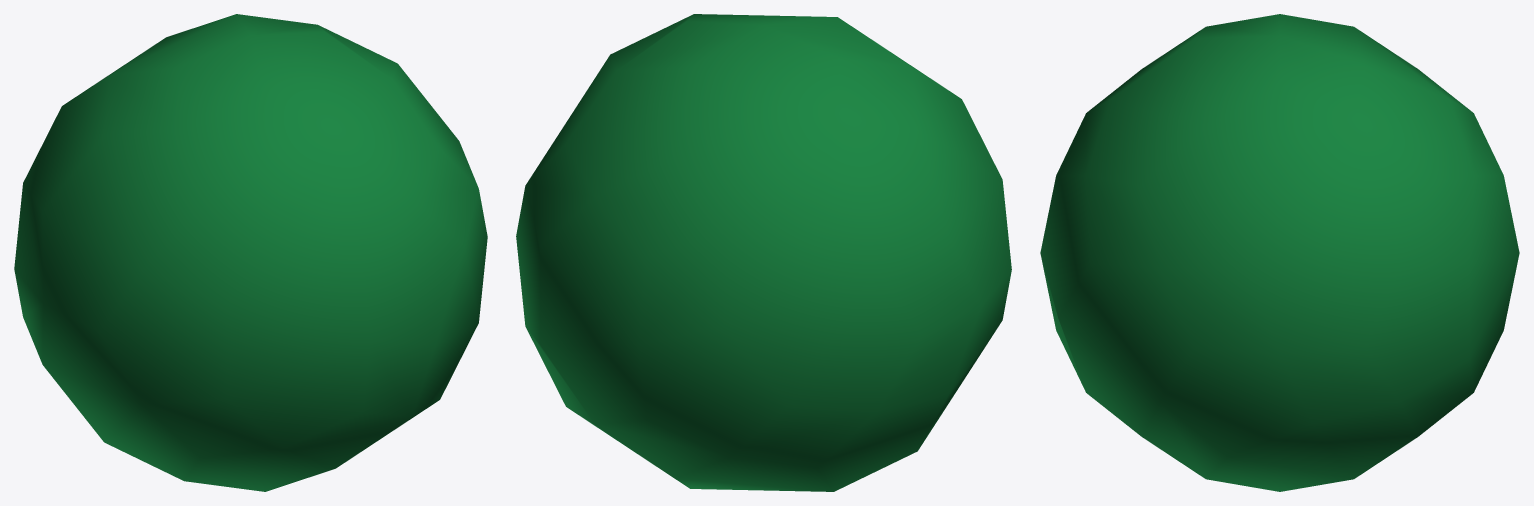
Rendered from env_shrub_01.glb.
The picture shows the model from 3 angles, left to right: view 1: azimuth 30°, elevation 25°; view 2: azimuth 150°, elevation 25°; view 3: azimuth 270°, elevation 25°; orthographic projection. The views are drawn at different scales.
Parts seen in each view (by area): view 1: env_shrub_01; view 2: env_shrub_01; view 3: env_shrub_01.
Boxes of the visible parts, x1,y1,x2,y2 form: env_shrub_01: (14,14,487,491); env_shrub_01: (516,14,1011,491); env_shrub_01: (1040,14,1519,491).
Size of the model in its own units: 1.6 by 1.6 by 1.6.
